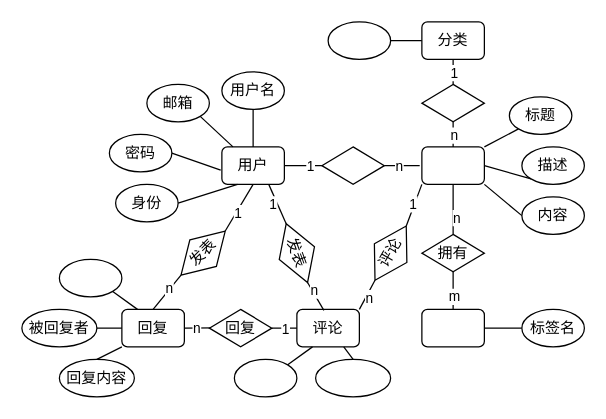
The diagram is 606 pixels wide and 419 high, and some of its shapes have lost their labels. Each missing label, with the centre of its shape:
"分类名" belongs at (359,40).
"创建" belongs at (352,165).
"包含" belongs at (452,102).
"回复者" belongs at (90,277).
"文章" belongs at (452,165).
"标签" belongs at (452,327).
"评论内容" belongs at (352,377).
"评论者" belongs at (265,377).
